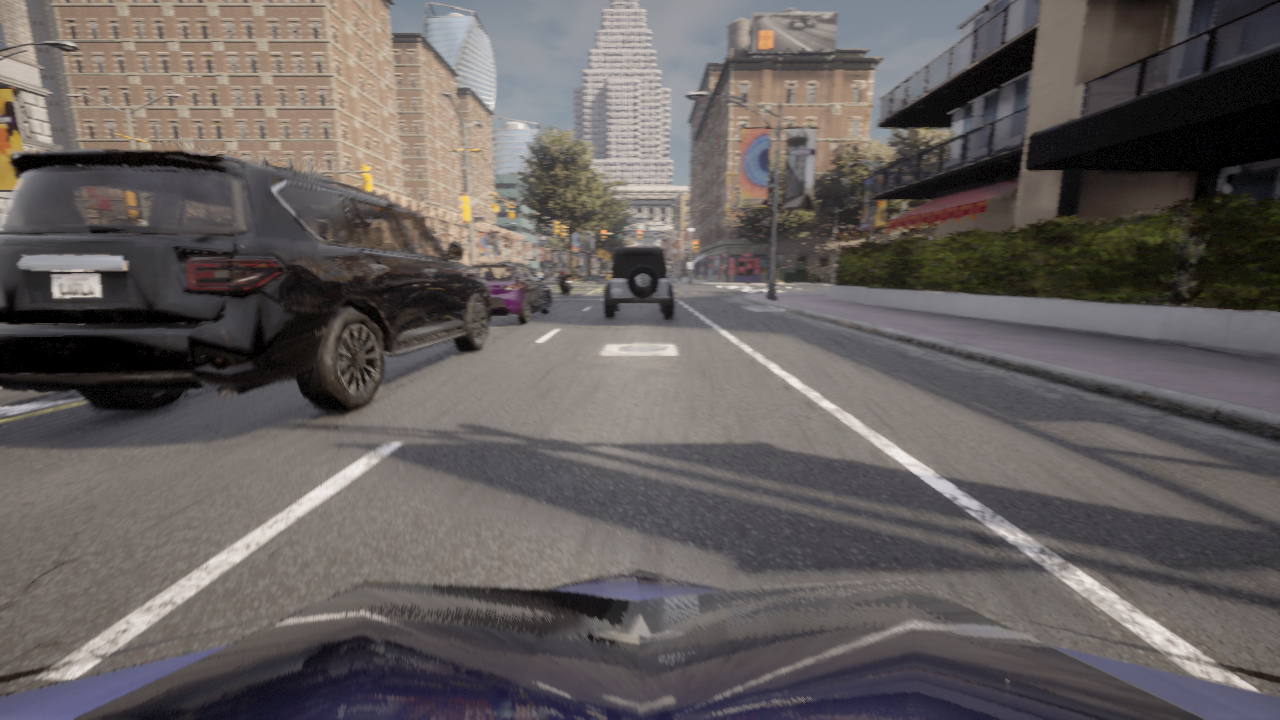cyclist: (0, 569, 1279, 719), (0, 150, 491, 411), (603, 246, 675, 317), (471, 262, 552, 323), (556, 273, 572, 294), (606, 271, 610, 281)
